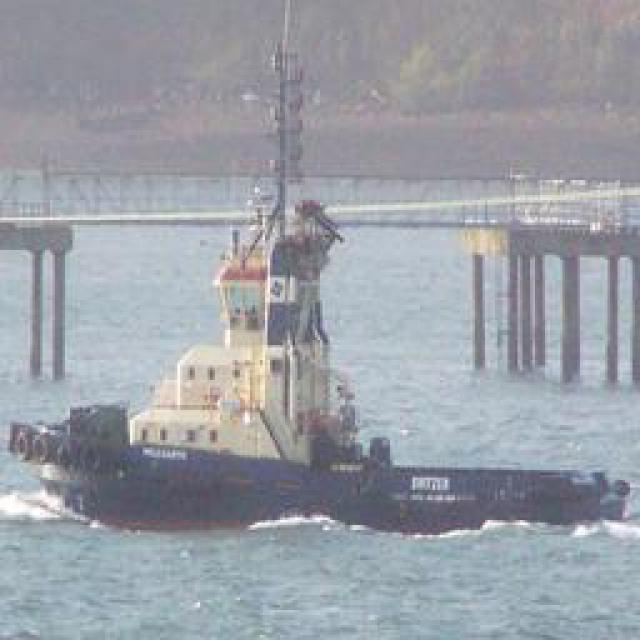Ship: (12, 183, 640, 542)
